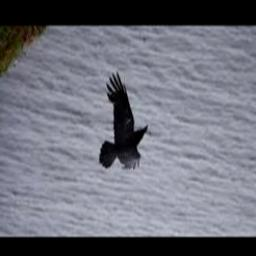Crow: (99, 72, 149, 173)
